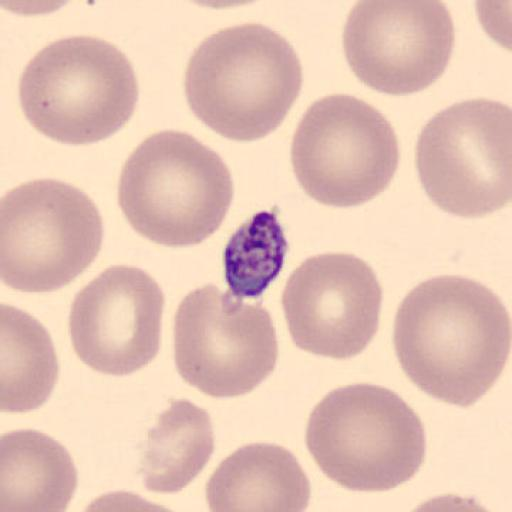Platelet: (220, 207, 292, 302)
RBC: (390, 271, 512, 409), (181, 20, 305, 146), (115, 126, 236, 250), (302, 380, 429, 496), (16, 34, 142, 148), (288, 92, 402, 210), (170, 280, 281, 400), (2, 176, 106, 295), (412, 96, 511, 220), (278, 249, 385, 362), (66, 262, 166, 378), (340, 0, 456, 99), (204, 438, 312, 512), (139, 397, 217, 496), (2, 426, 80, 512), (2, 303, 61, 415), (74, 488, 192, 512), (399, 491, 504, 512), (472, 0, 512, 52), (1, 0, 82, 18), (164, 0, 276, 11)
